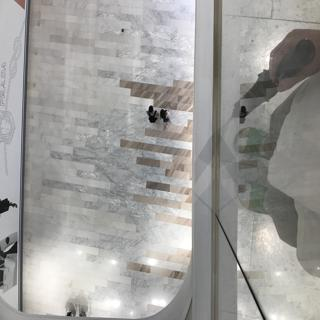person: (140, 103, 156, 131), (155, 107, 170, 132)
